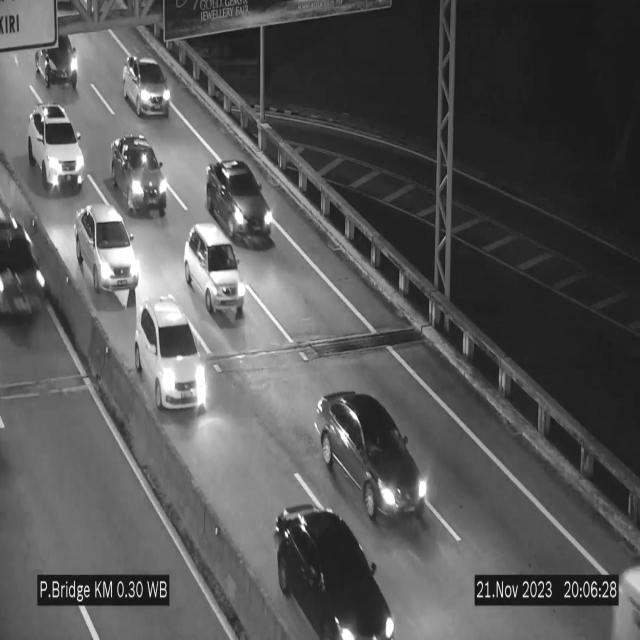Car: (270, 495, 396, 640), (315, 389, 433, 537), (136, 302, 208, 419), (0, 209, 51, 337), (76, 204, 138, 306), (184, 223, 244, 321), (206, 160, 274, 246), (26, 102, 86, 196), (111, 135, 167, 217), (34, 24, 84, 90), (123, 55, 170, 117)
